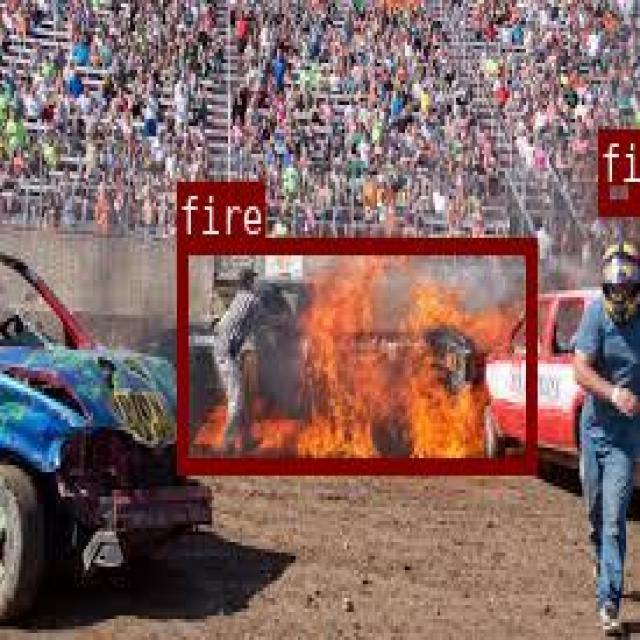fire: (175, 238, 534, 471), (596, 127, 635, 210)
